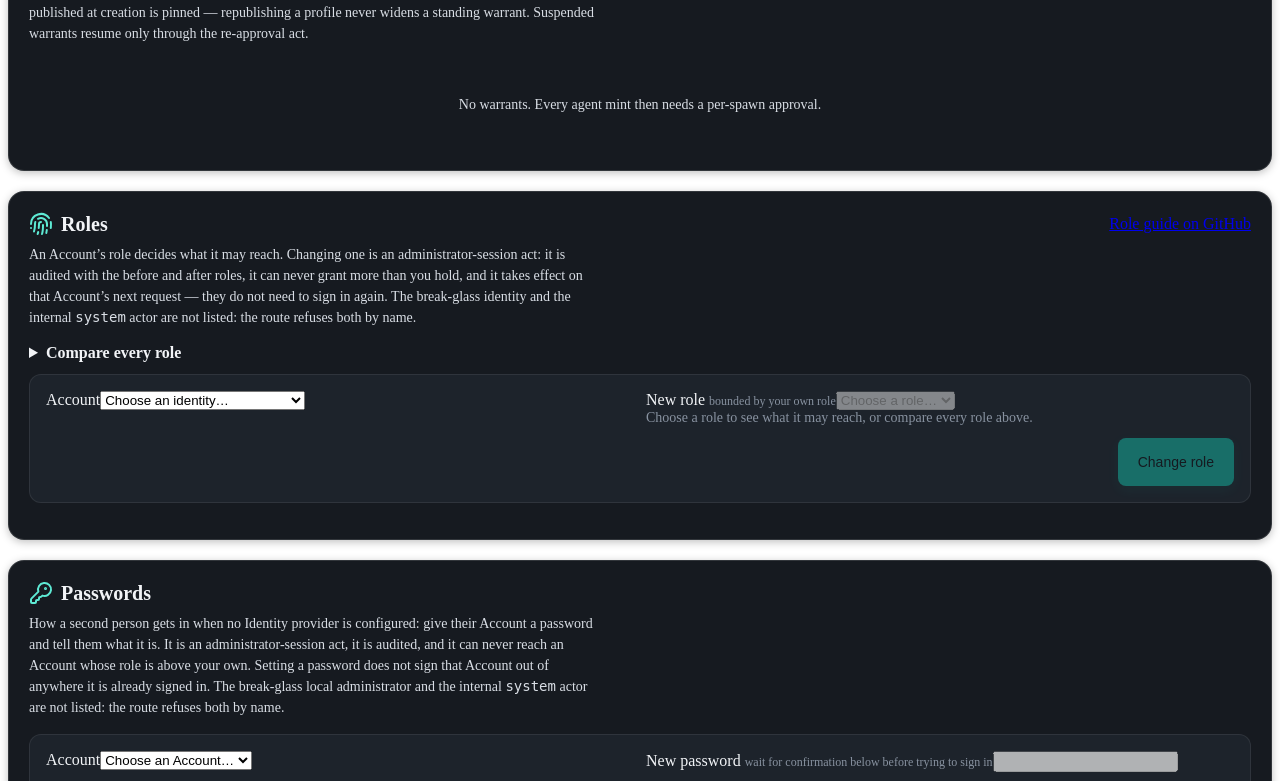
what the control does › pressing Change role asks first, and Cancel sends nothing
(page scrolled)
expect the heading "Roles" is shown: met, box [29,212,108,236]
Select "Tessa (tessa) · human · viewer" in the dropdown labelled "Account" in the row of "New role" at (203,400), box [100,391,305,410]
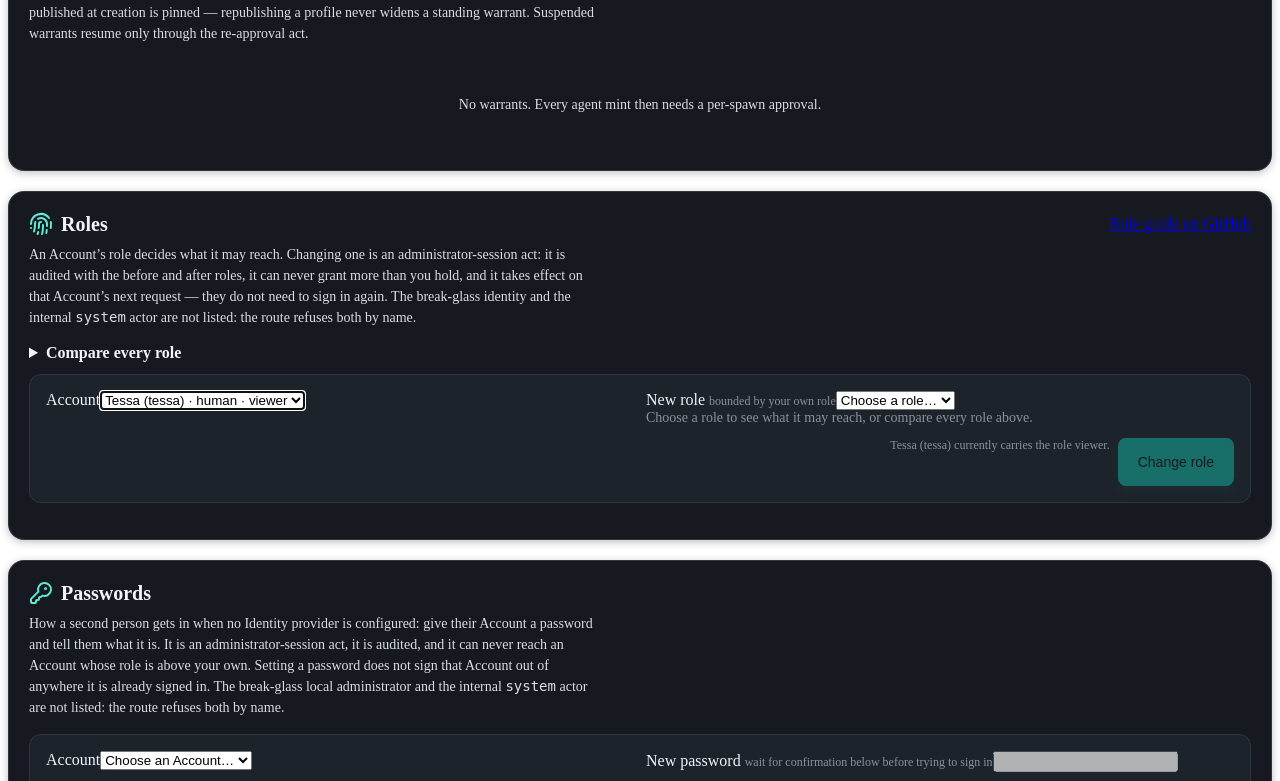
Select "editor" in the dropdown labelled "New role bounded by your own role" at (895,400), box [836,391,955,410]
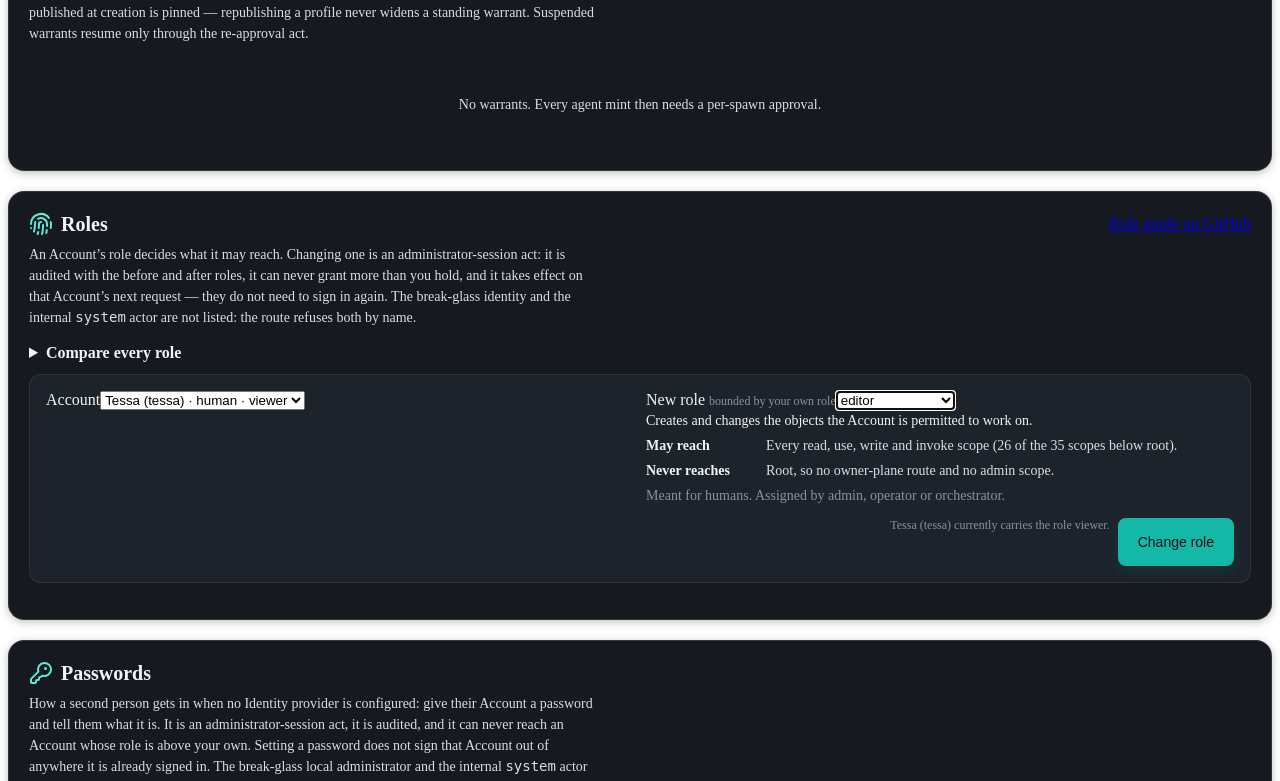
Click the button "Change role" at (1176,542), box [1118,518,1234,566]
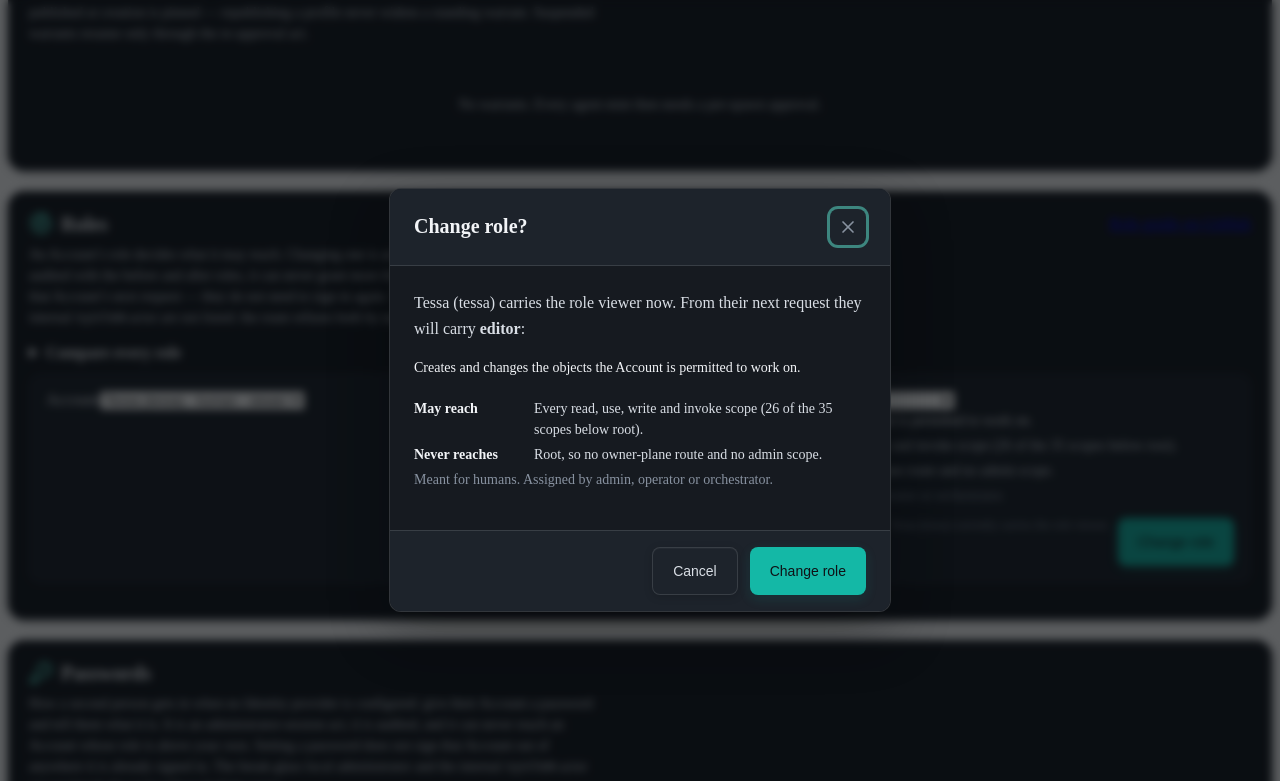
Click the button "Cancel" at (695,571), box [652,547,738,595]
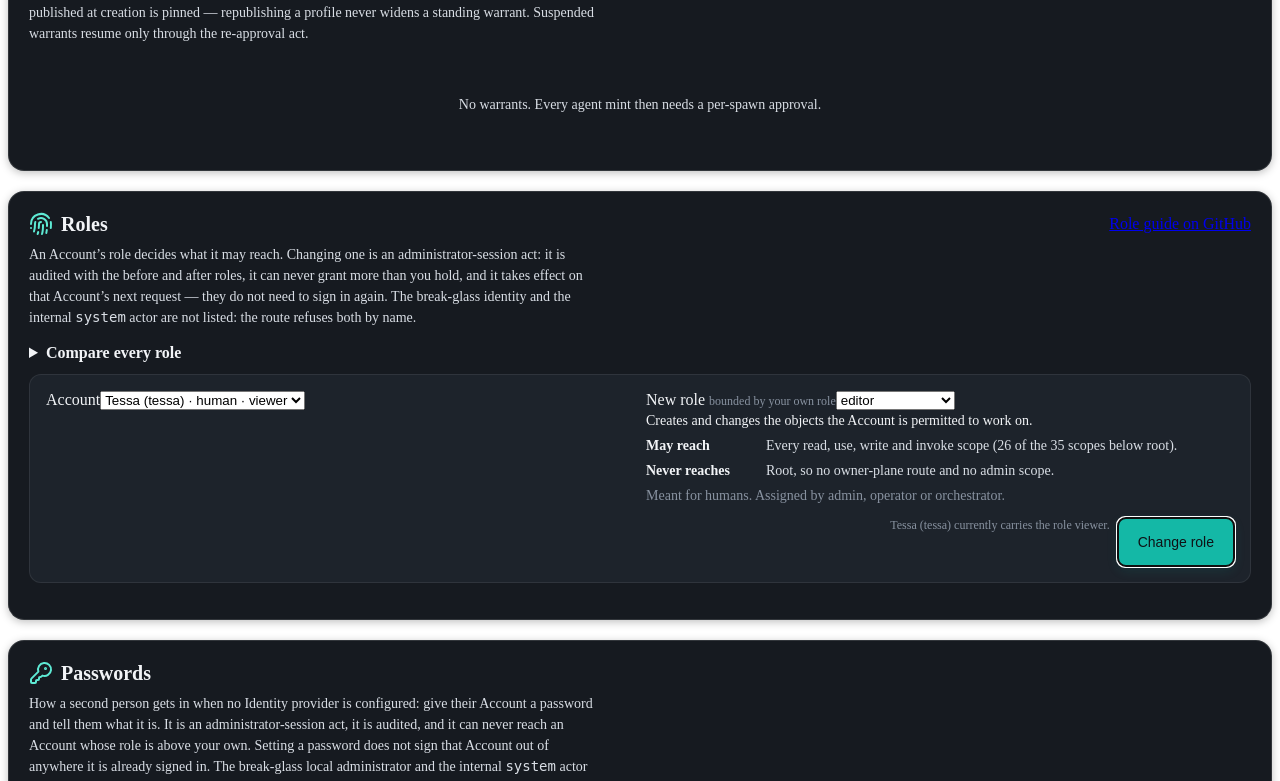
expect the dialog is gone: met
